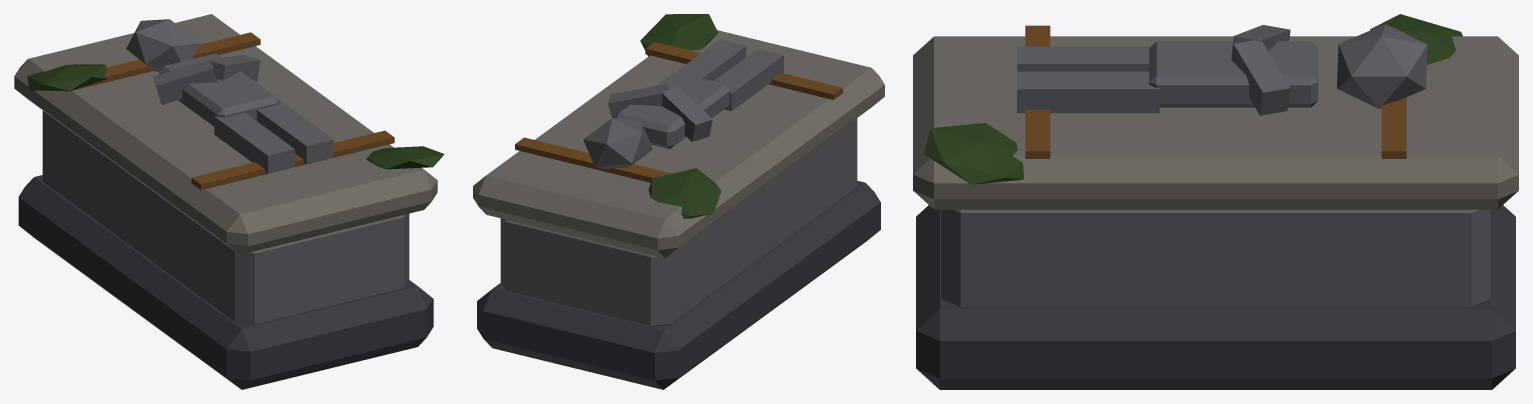
File: Sealed_Sarcophagus.glb
3 renders of one model, left to right at view 1: azimuth 30°, elevation 25°; view 2: azimuth 150°, elevation 25°; view 3: azimuth 270°, elevation 25°, orthographic. The views are drawn at different scales.
Visible parts, largest first — view 1: Sealed_Sarcophagus; view 2: Sealed_Sarcophagus; view 3: Sealed_Sarcophagus.
Boxes of the visible parts, left/top/right/bottom form: Sealed_Sarcophagus: left=14, top=14, right=444, bottom=389; Sealed_Sarcophagus: left=473, top=14, right=884, bottom=389; Sealed_Sarcophagus: left=913, top=14, right=1518, bottom=389.
Size of the model in its own units: 1.24 by 1.12 by 2.04.
